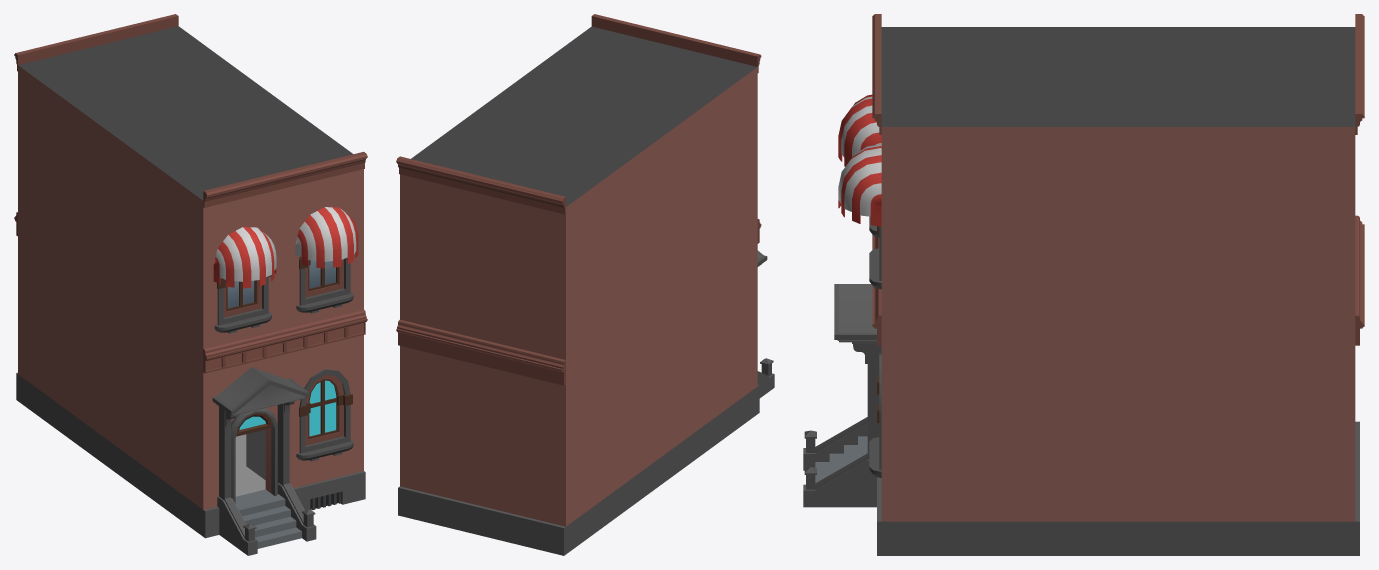
The model's file is SM_Buildings_House_02_V2.fbx.
3 views of the same model, side by side, from view 1: azimuth 30°, elevation 25°; view 2: azimuth 150°, elevation 25°; view 3: azimuth 270°, elevation 25° (orthographic). The views are drawn at different scales.
Visible parts, largest first — view 1: SM_Buildings_House_02_V2; view 2: SM_Buildings_House_02_V2; view 3: SM_Buildings_House_02_V2.
Part boxes in pixels (x1,y1,x2,y2): SM_Buildings_House_02_V2: [14, 14, 367, 555]; SM_Buildings_House_02_V2: [396, 14, 774, 555]; SM_Buildings_House_02_V2: [803, 14, 1364, 555].
Size of the model in its own units: 5 by 10.3 by 11.86.
